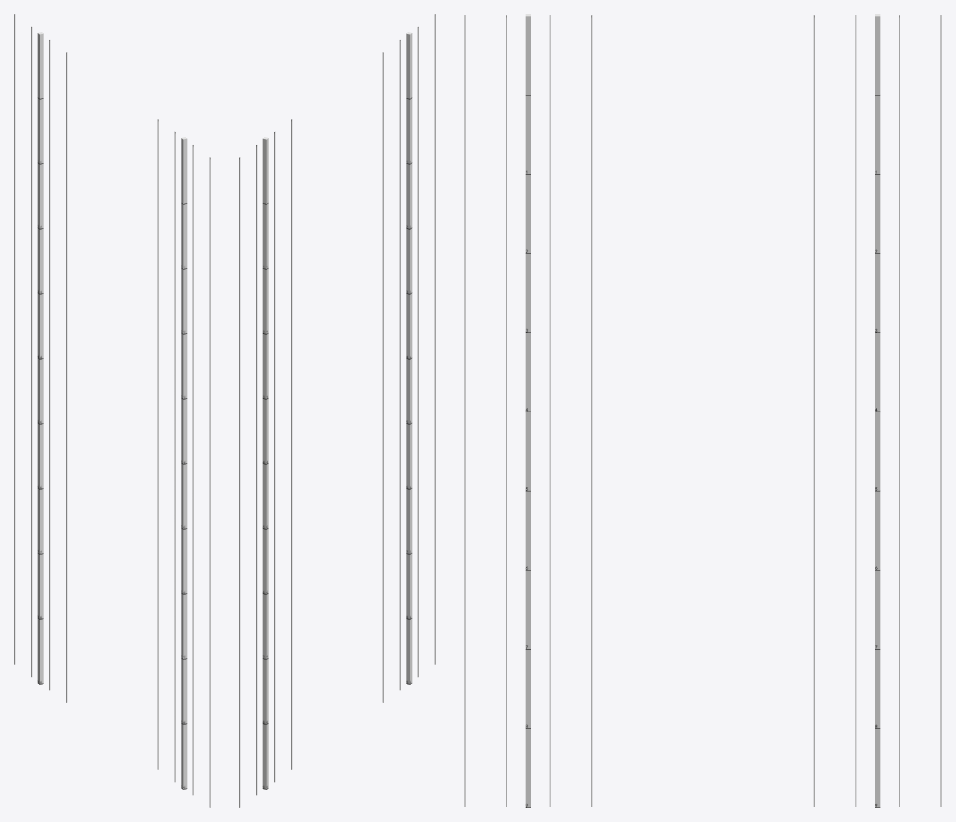
The model's file is catenary_positioning_tool_both.obj.
3 views of the same model, side by side, from view 1: azimuth 30°, elevation 25°; view 2: azimuth 150°, elevation 25°; view 3: azimuth 270°, elevation 25° (orthographic). The views are drawn at different scales.
Visible parts, largest first — view 1: cuboid; view 2: cuboid; view 3: cuboid.
Part boxes in pixels (left/top/right/bottom): cuboid: left=14, top=14, right=210, bottom=807; cuboid: left=239, top=14, right=435, bottom=807; cuboid: left=464, top=14, right=941, bottom=807.
Size of the model in its own units: 0.0625 by 10 by 5.46.
1 material, 1 textured.
